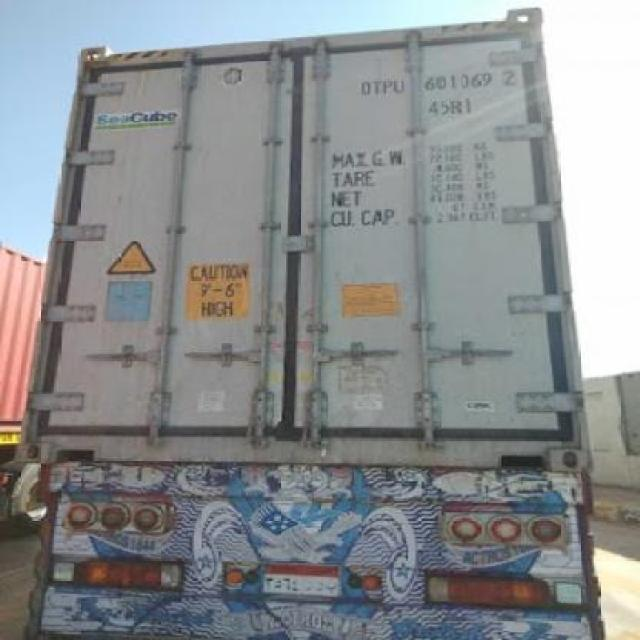ISO: (425, 96, 475, 118)
container_number: (358, 74, 508, 92)
